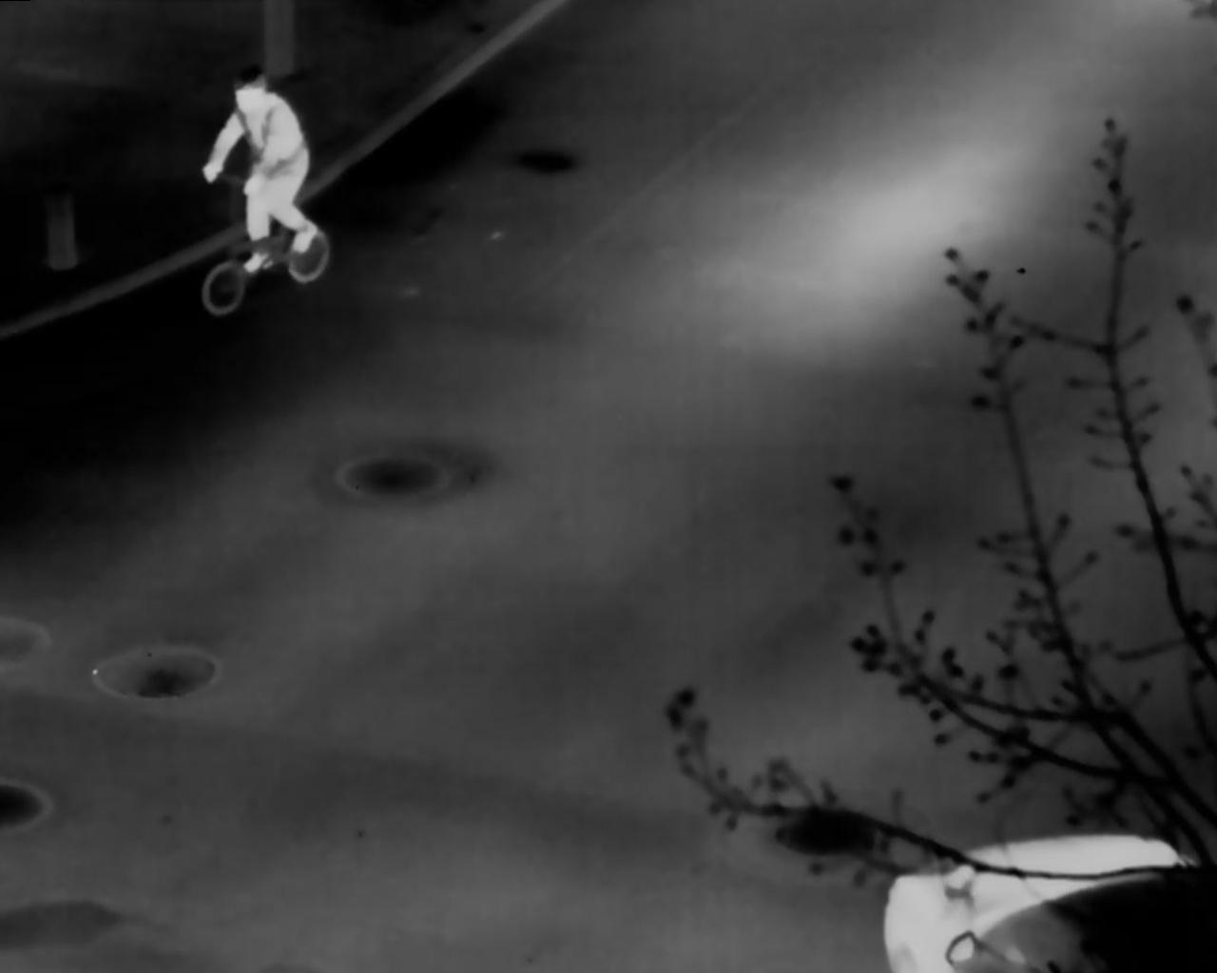person: (199, 77, 316, 274)
